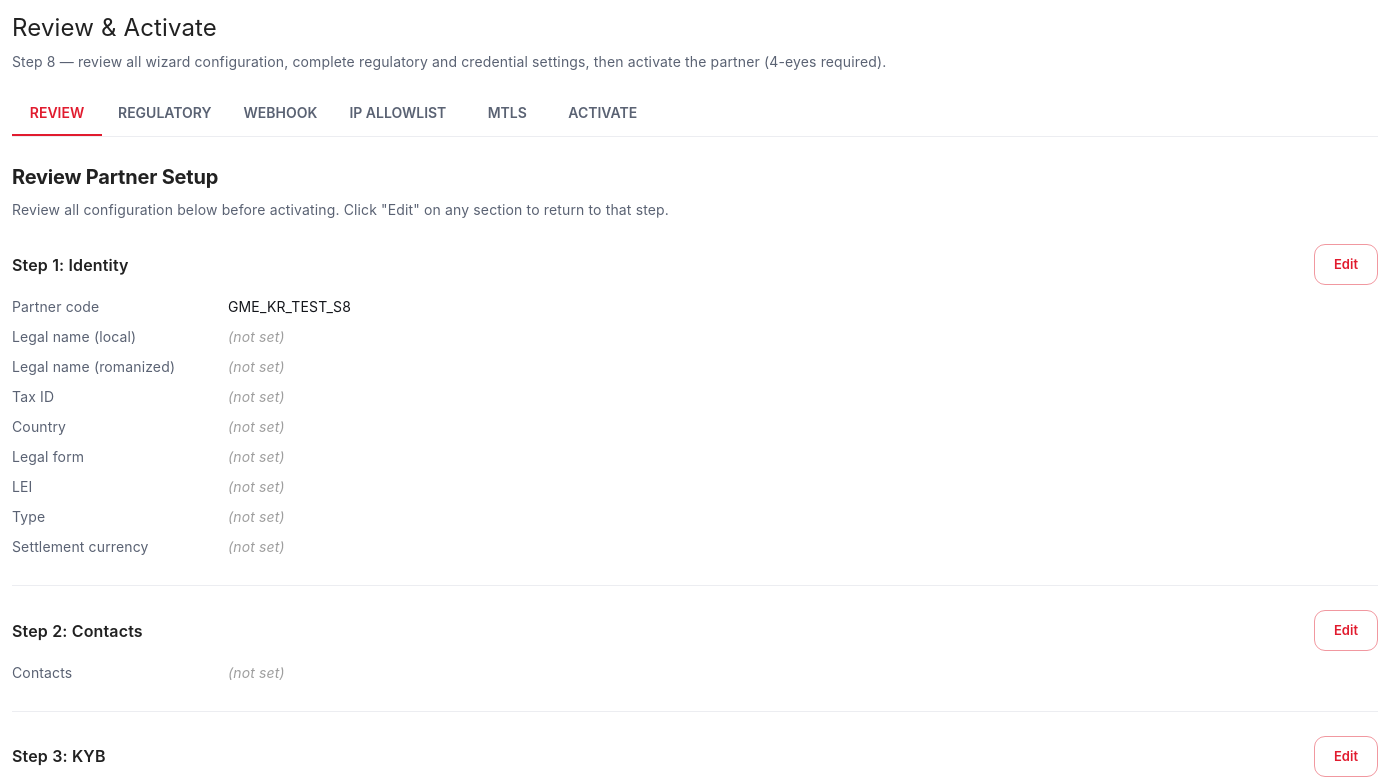
Step8Form › switches to Webhook tab
Click the tab with aria-label "tab-webhook": click(280, 112) [228,88,333,136]
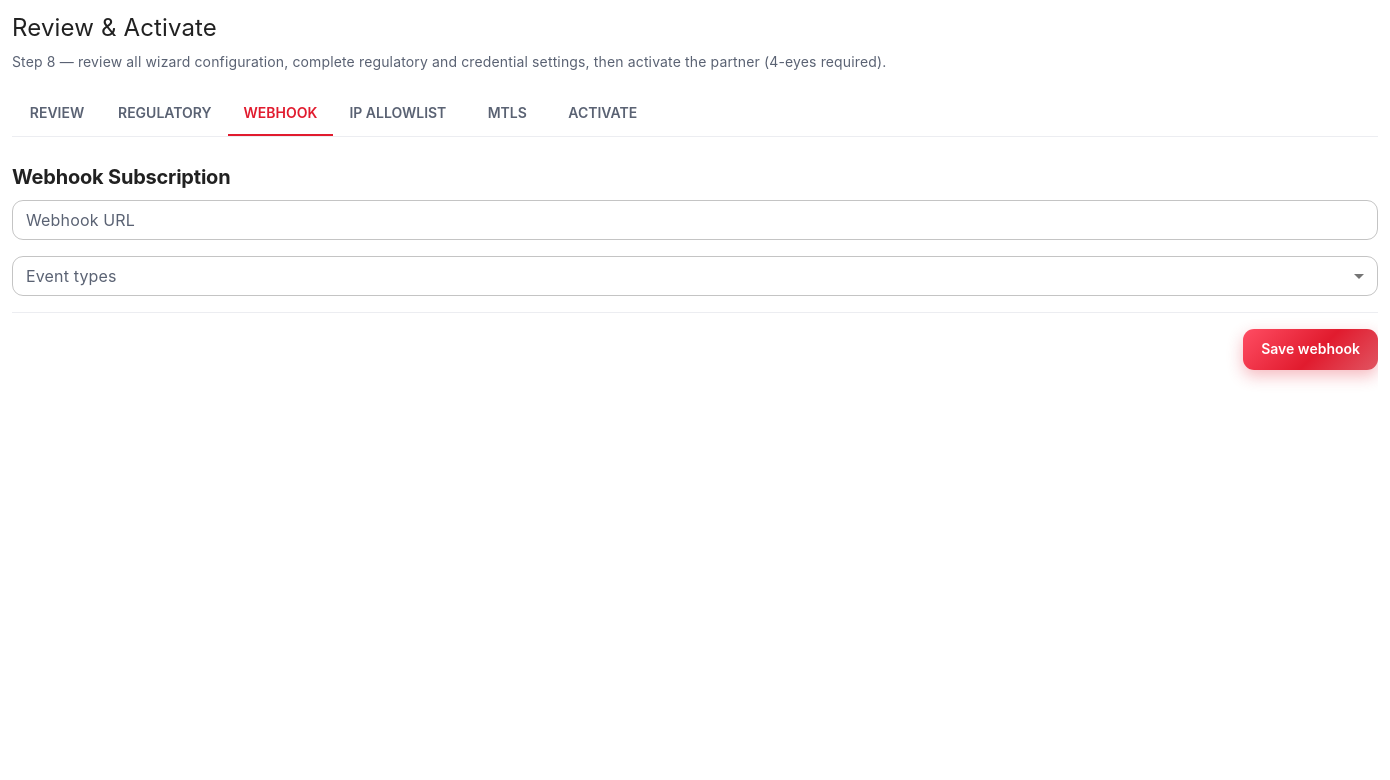
Result: the element named "webhook-subscription-section" is shown at [12,161,1378,370]
